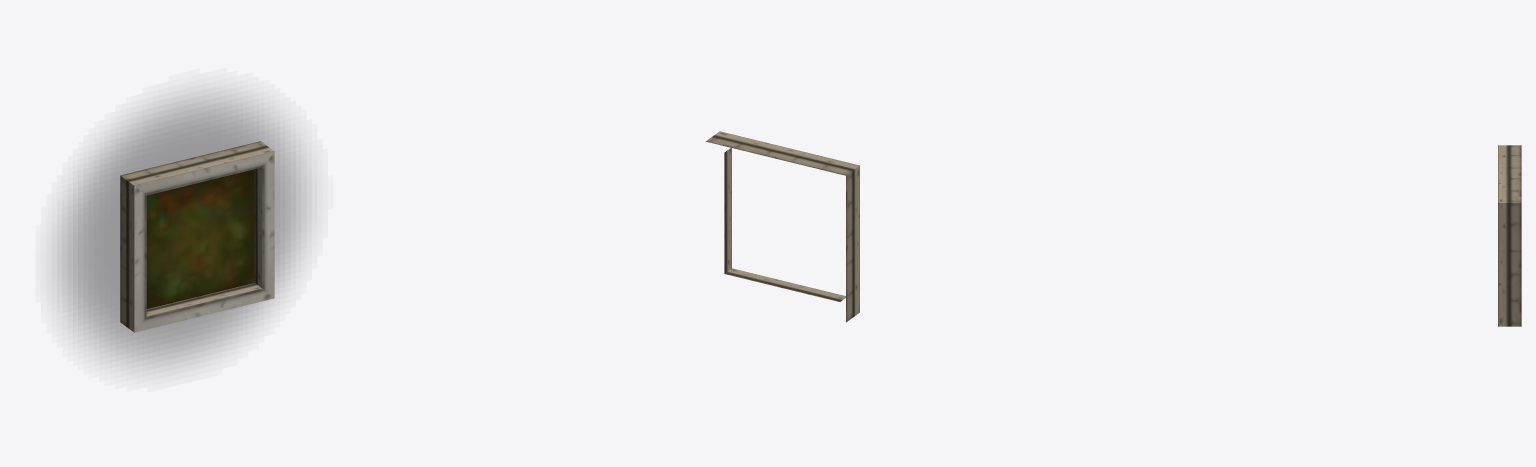
Rendered from prop_tree_fat_brickbox_ur.glb.
3 renders of one model, left to right at view 1: azimuth 30°, elevation 25°; view 2: azimuth 150°, elevation 25°; view 3: azimuth 270°, elevation 25°, orthographic. The views are drawn at different scales.
Visible parts, largest first — view 1: shadow_large_brickbox_ul_4, box_drit_7; view 2: box_drit_7; view 3: box_drit_7.
Boxes of the visible parts, bbox=[...] form: shadow_large_brickbox_ul_4: bbox=[57, 93, 306, 368]; box_drit_7: bbox=[120, 141, 274, 332]; box_drit_7: bbox=[706, 131, 859, 322]; box_drit_7: bbox=[1498, 145, 1521, 326].
Size of the model in its own units: 24.78 by 23.54 by 25.34.
Materials: 4 (4 with a texture image).
